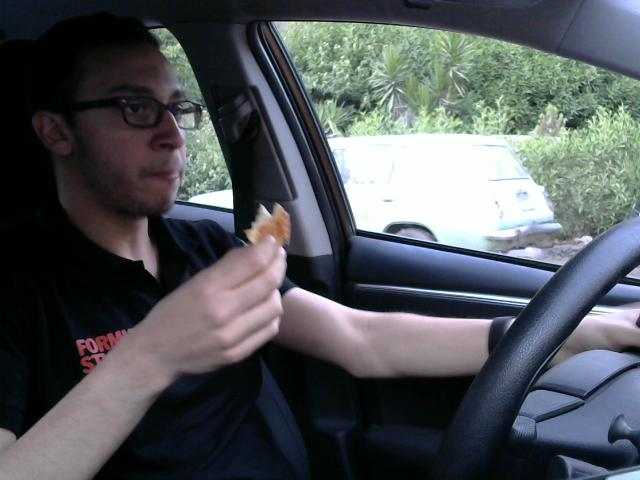Eating: (243, 200, 300, 254)
